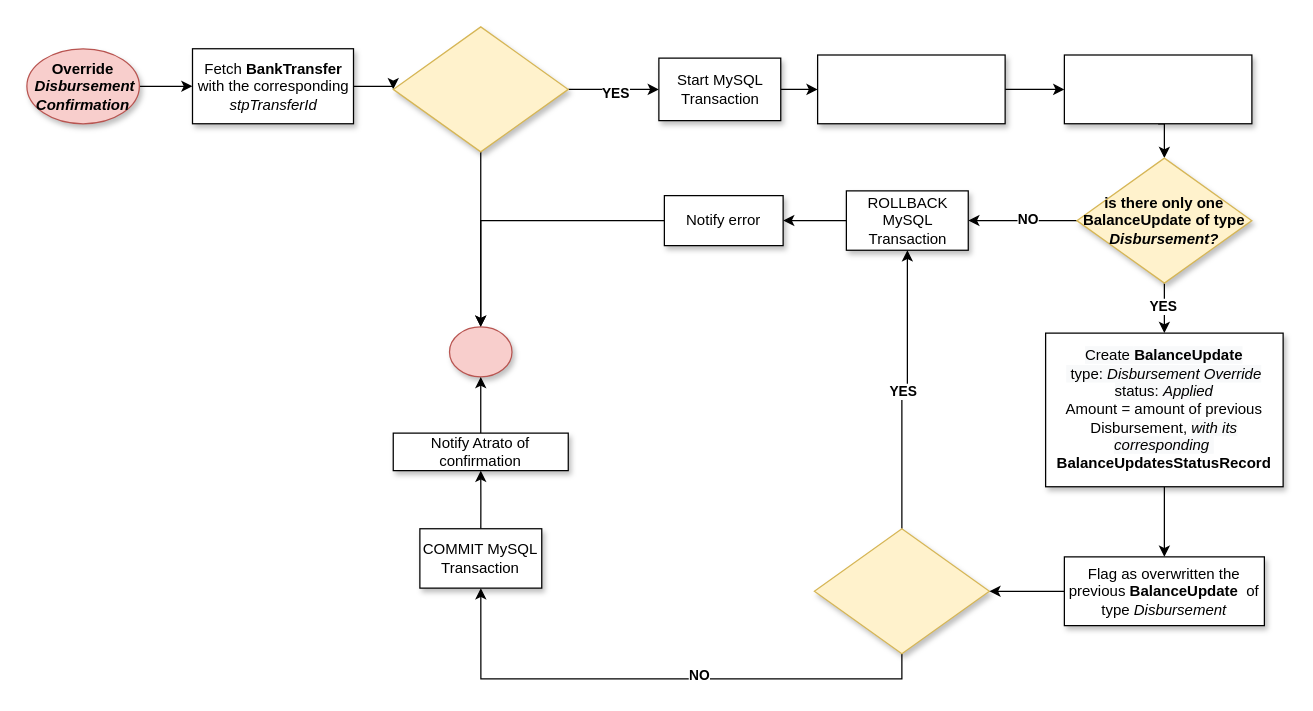
The diagram is 1313 pixels wide and 711 high, and some of its shapes have lost their labels. Here are the shapes that lost their labels. From the top down, the centre of each, then its label:
point (481, 91): BankTransfer's status is Applied ?
point (912, 90): Flag credits of the BalanceUpdates related to the BankTransfer as not disbursed
point (1158, 90): From these BalanceUpdates validate that there is only one with type Disbursement
point (481, 353): End
point (902, 592): Was there any error on the updates or creation of new entries?
